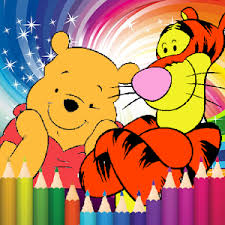Winnie: (20, 26, 121, 179)
